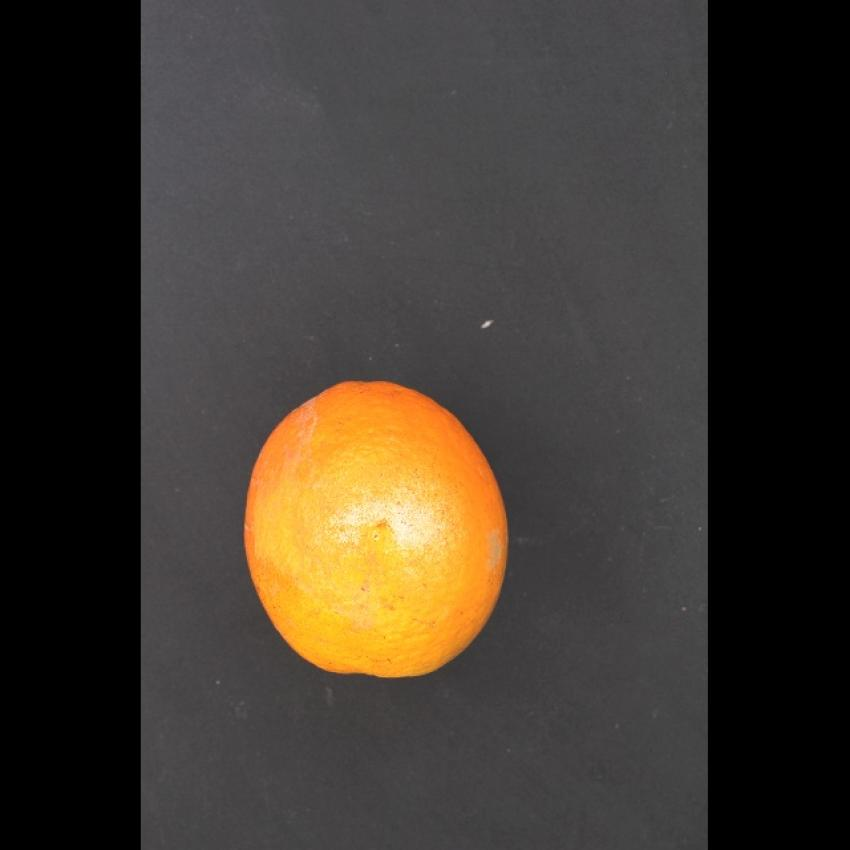Mal estado: (240, 361, 513, 700)
